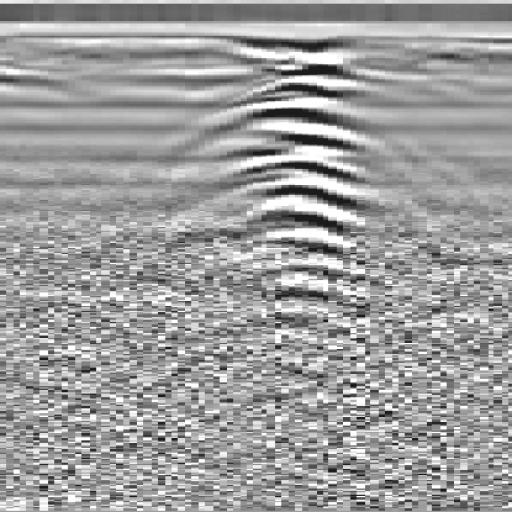metalic: (137, 37, 441, 316)
